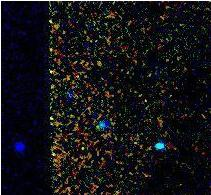star: (72, 135, 102, 165)
